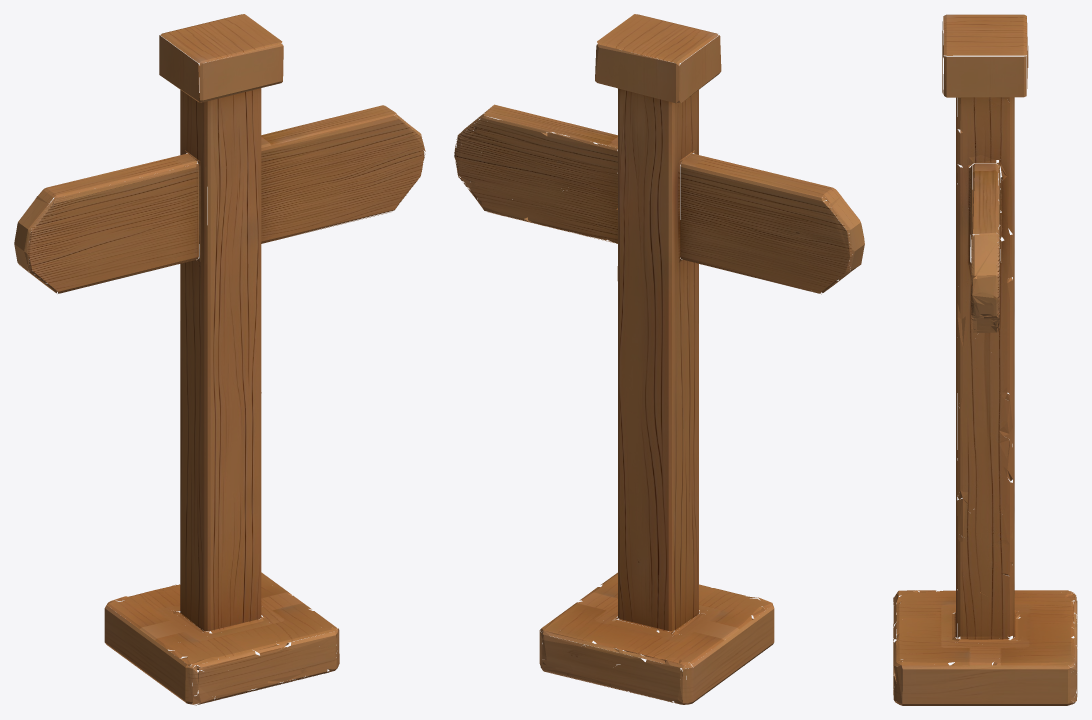
File: signpost.glb
3 renders of one model, left to right at view 1: azimuth 30°, elevation 25°; view 2: azimuth 150°, elevation 25°; view 3: azimuth 270°, elevation 25°, orthographic. The views are drawn at different scales.
Parts seen in each view (by area): view 1: textured_mesh.obj; view 2: textured_mesh.obj; view 3: textured_mesh.obj.
Boxes of the visible parts, x1,y1,x2,y2 form: textured_mesh.obj: [14, 14, 425, 705]; textured_mesh.obj: [454, 14, 864, 704]; textured_mesh.obj: [893, 14, 1077, 705].
Bounding box in the file's own units: 1.35 × 1.99 × 0.5244.
1 material, 1 textured.
